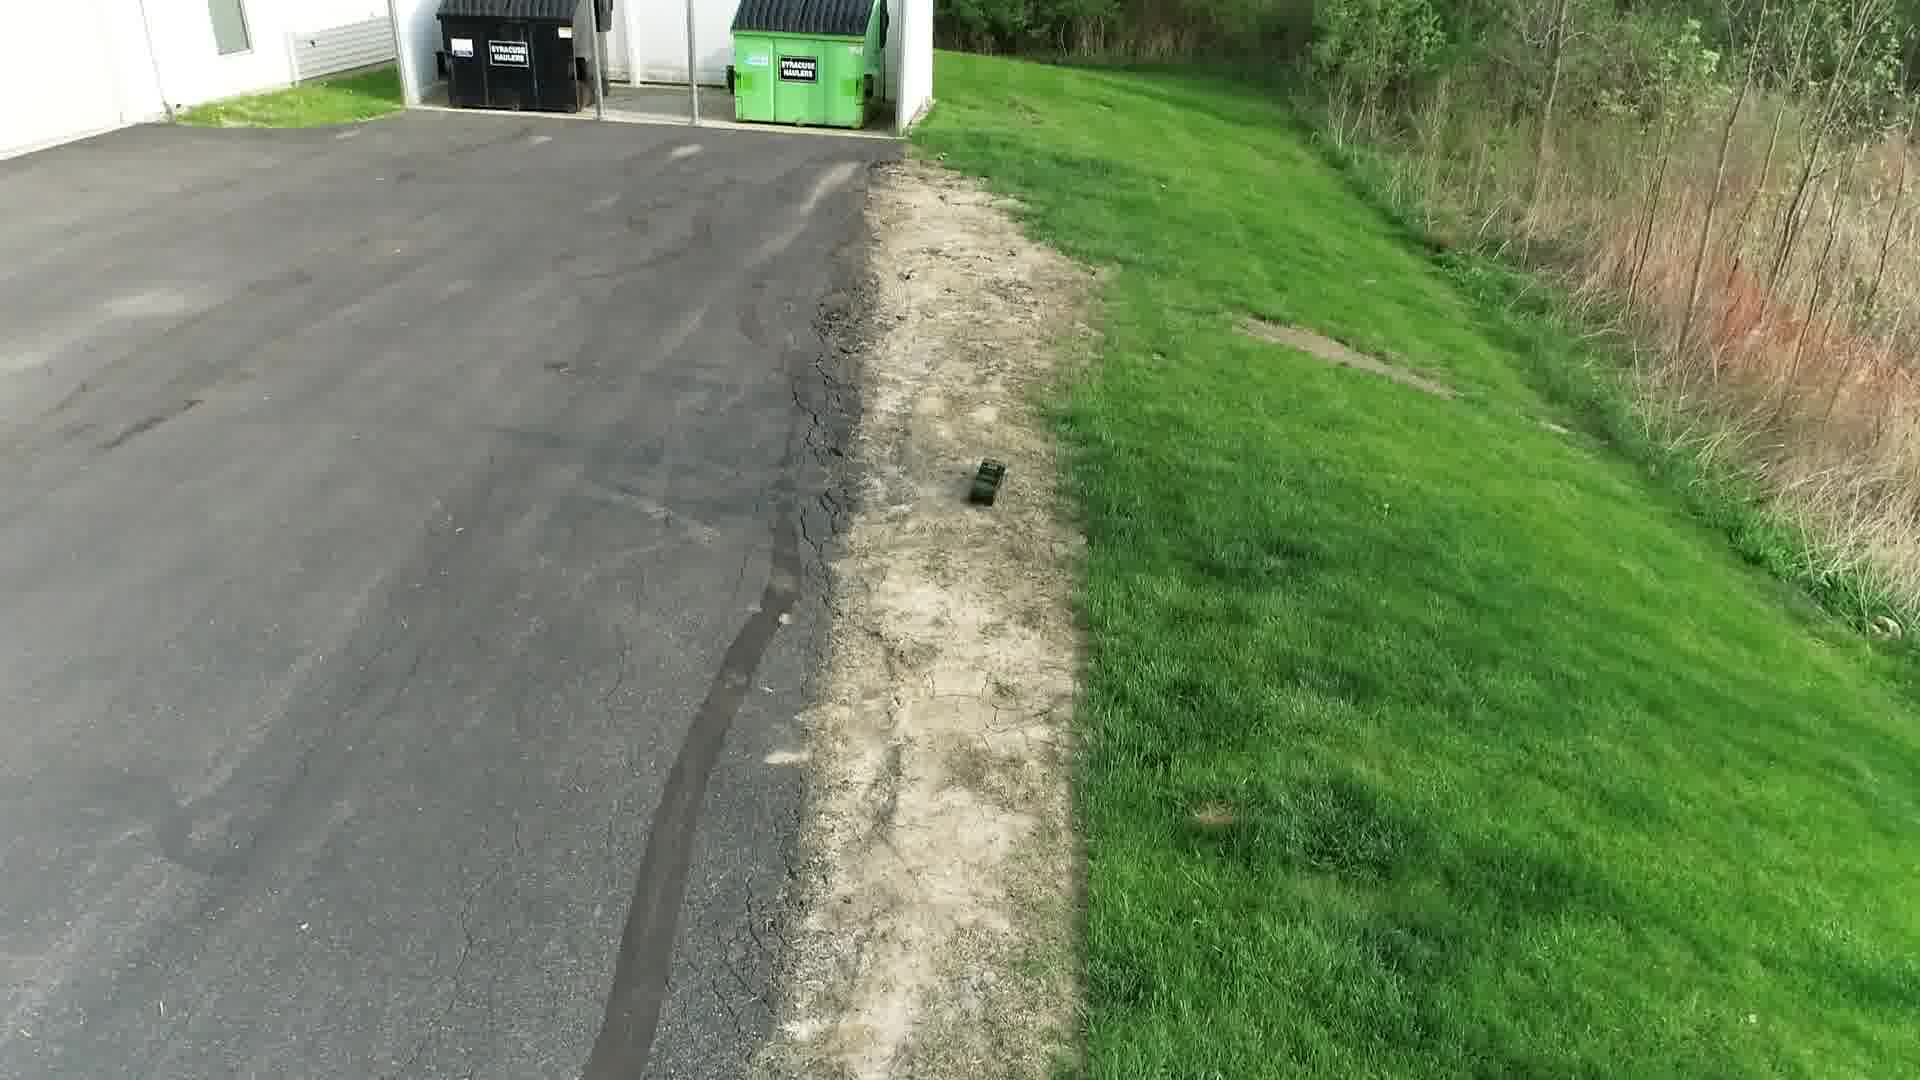transporter9: (968, 454, 1007, 508)
